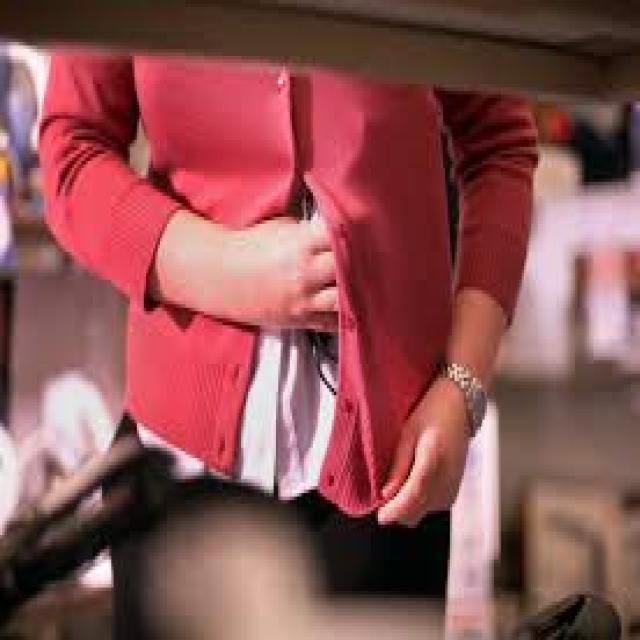Shoplifting: (44, 0, 546, 640)
